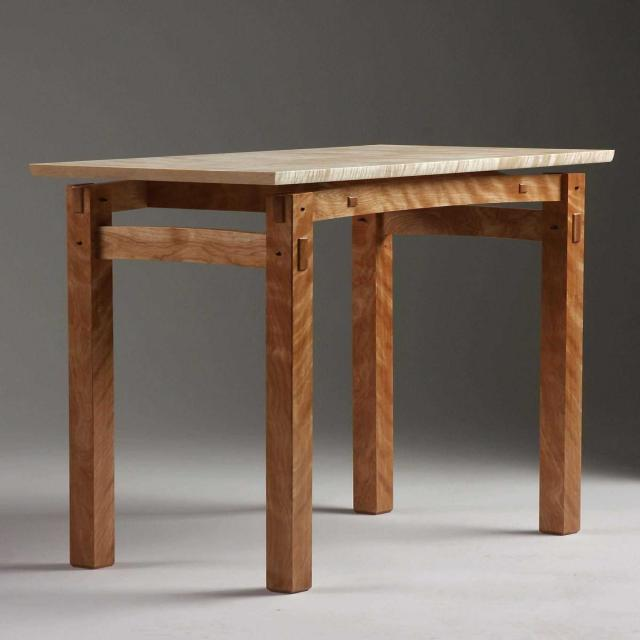table: (25, 132, 626, 611)
